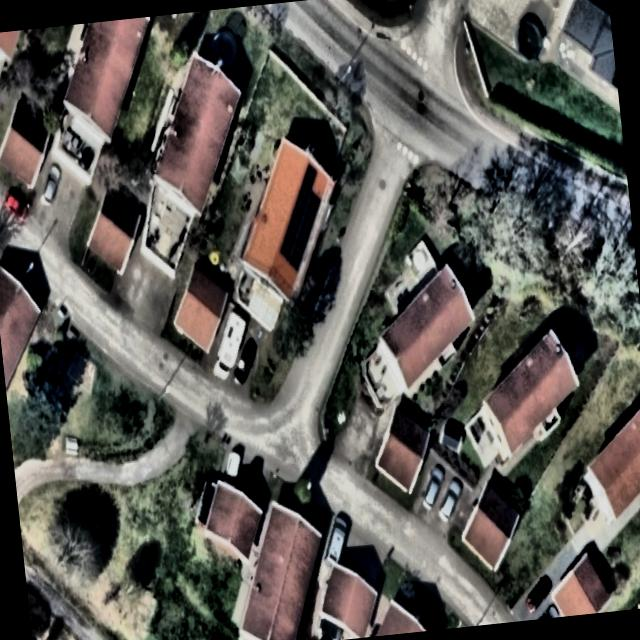roof_pv: (274, 190, 306, 276), (296, 160, 326, 242)
